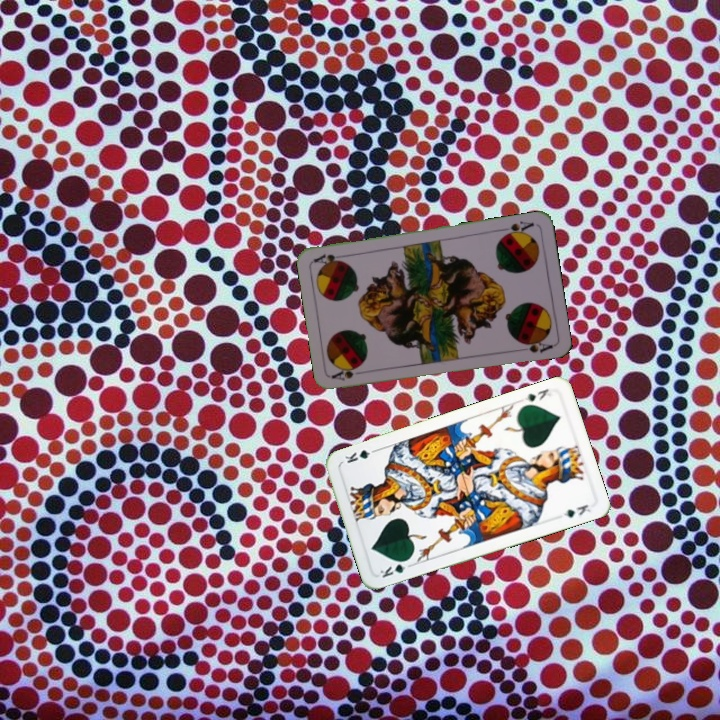GK: (376, 555, 413, 580), (520, 385, 554, 404)
SA: (497, 217, 536, 239), (328, 364, 361, 383)
